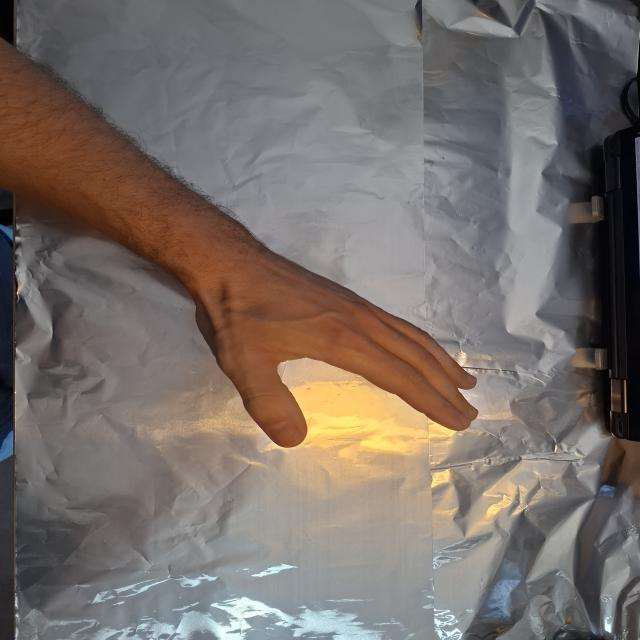glove_off: (183, 260, 485, 451)
